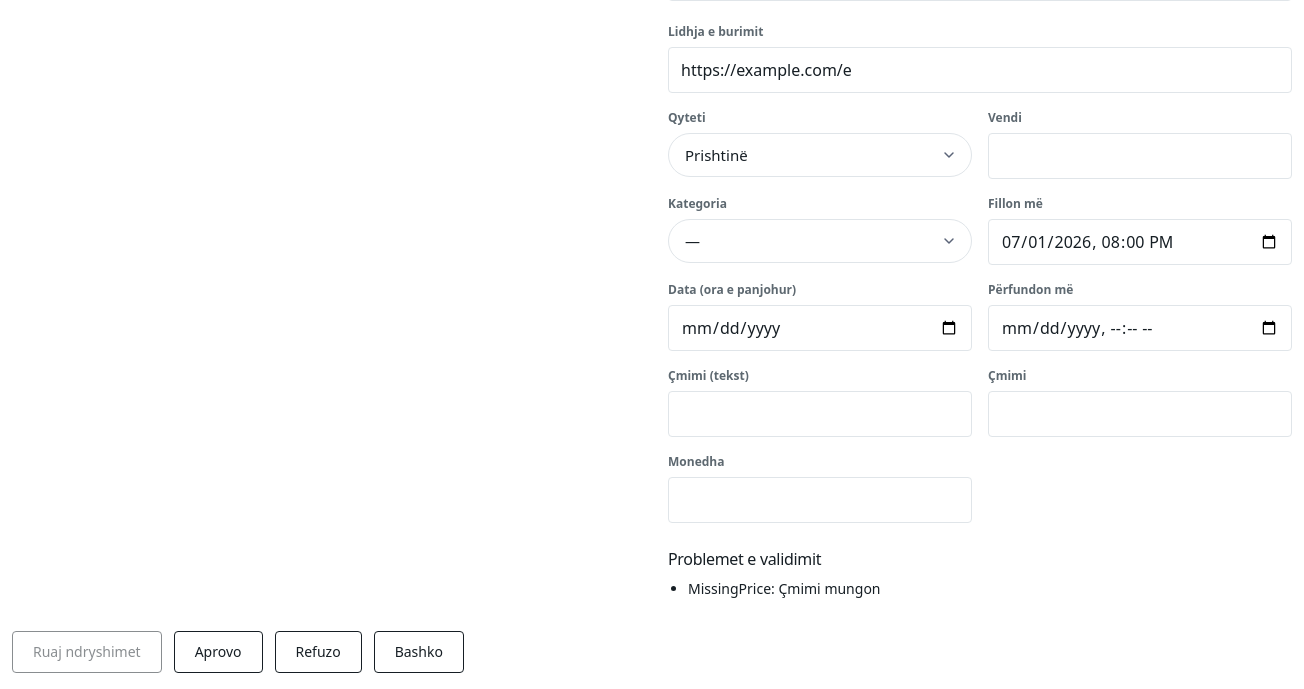
Test: CandidatePage › approves and shows the public link
(page scrolled)
Click the button "Aprovo" at (218, 652), box [174, 631, 262, 673]
(page scrolled)
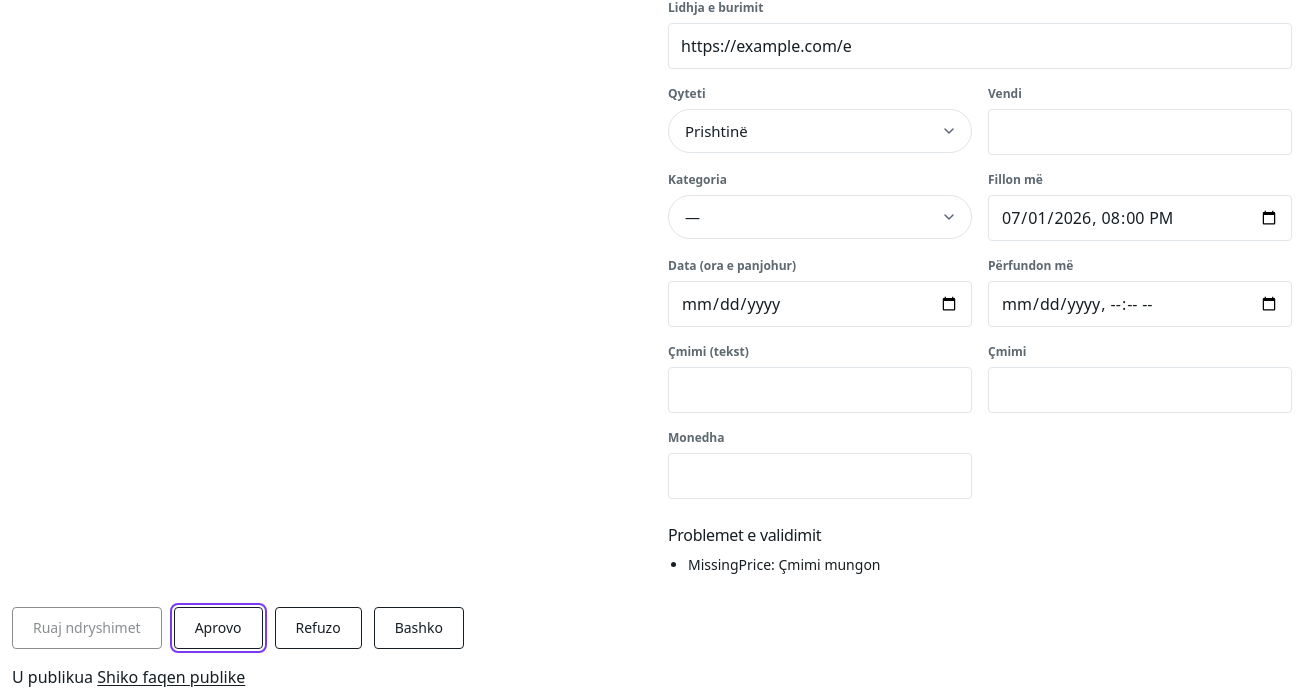
Check: the text "U publikua Shiko faqen publike" is shown, box [12, 666, 245, 688]
